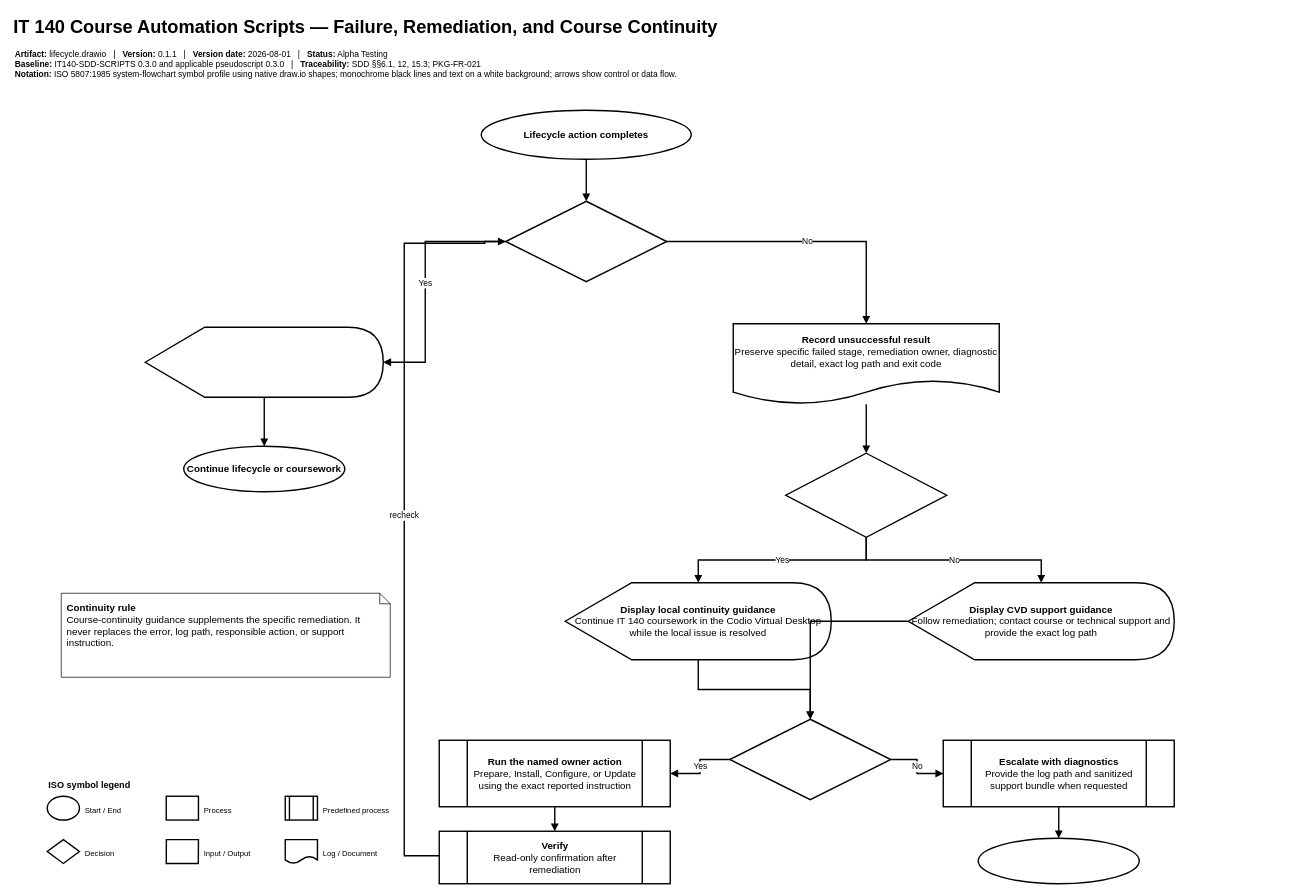
The diagram is 1298 pixels wide and 896 high, and some of its shapes have lost their labels. The shapes that lost their labels are listed below. From the top down, each one's centre as x and y in pixels, then its label:
point (586, 241): Successful and compliant?
point (264, 362): Display PASS summary Exact next step, restart guidance, log path and exit code 0
point (866, 495): Failure occurred in a local deployment profile?
point (810, 759): Lifecycle script owns remediation?
point (1058, 860): Await supported resolution
